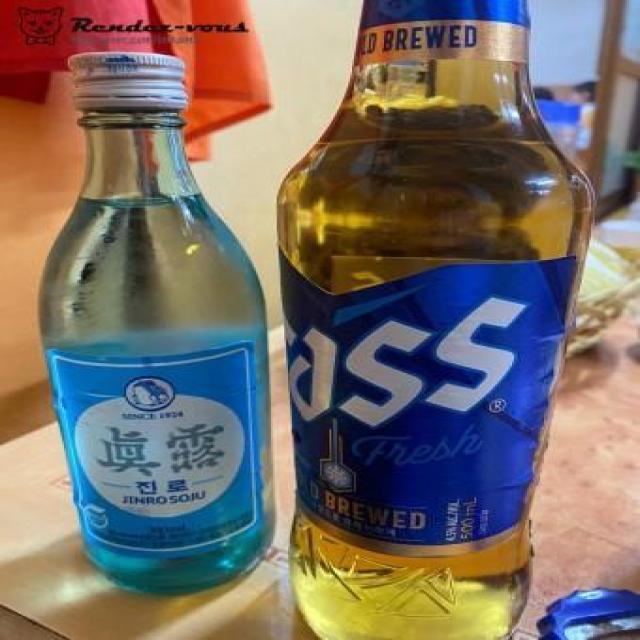beer-bottle: (272, 0, 602, 640)
soju-bottle: (28, 48, 280, 602)
